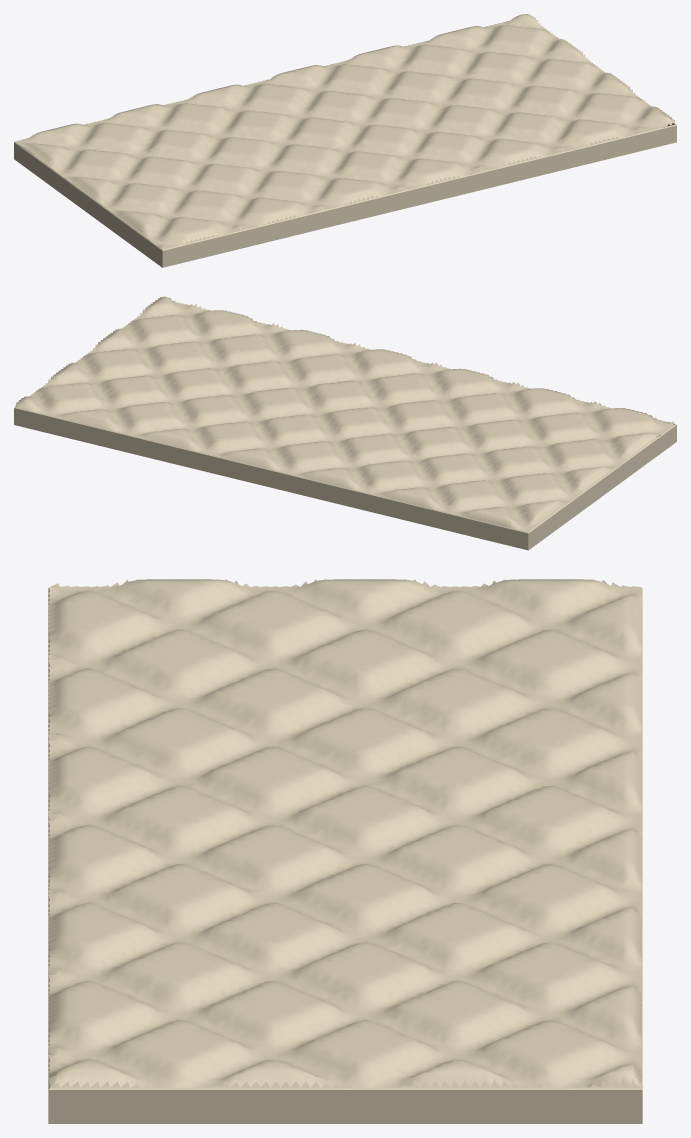
File: mahsulot.glb
The picture shows the model from 3 angles, top to bottom: view 1: azimuth 30°, elevation 25°; view 2: azimuth 150°, elevation 25°; view 3: azimuth 270°, elevation 25°; orthographic projection. The views are drawn at different scales.
Visible parts, largest first — view 1: mahsulot; view 2: mahsulot; view 3: mahsulot.
Part boxes in pixels (bbox=[...]): mahsulot: bbox=[14, 14, 676, 267]; mahsulot: bbox=[14, 296, 676, 550]; mahsulot: bbox=[48, 579, 642, 1123].
Bounding box in the file's own units: 1 × 0.045 × 0.5.
